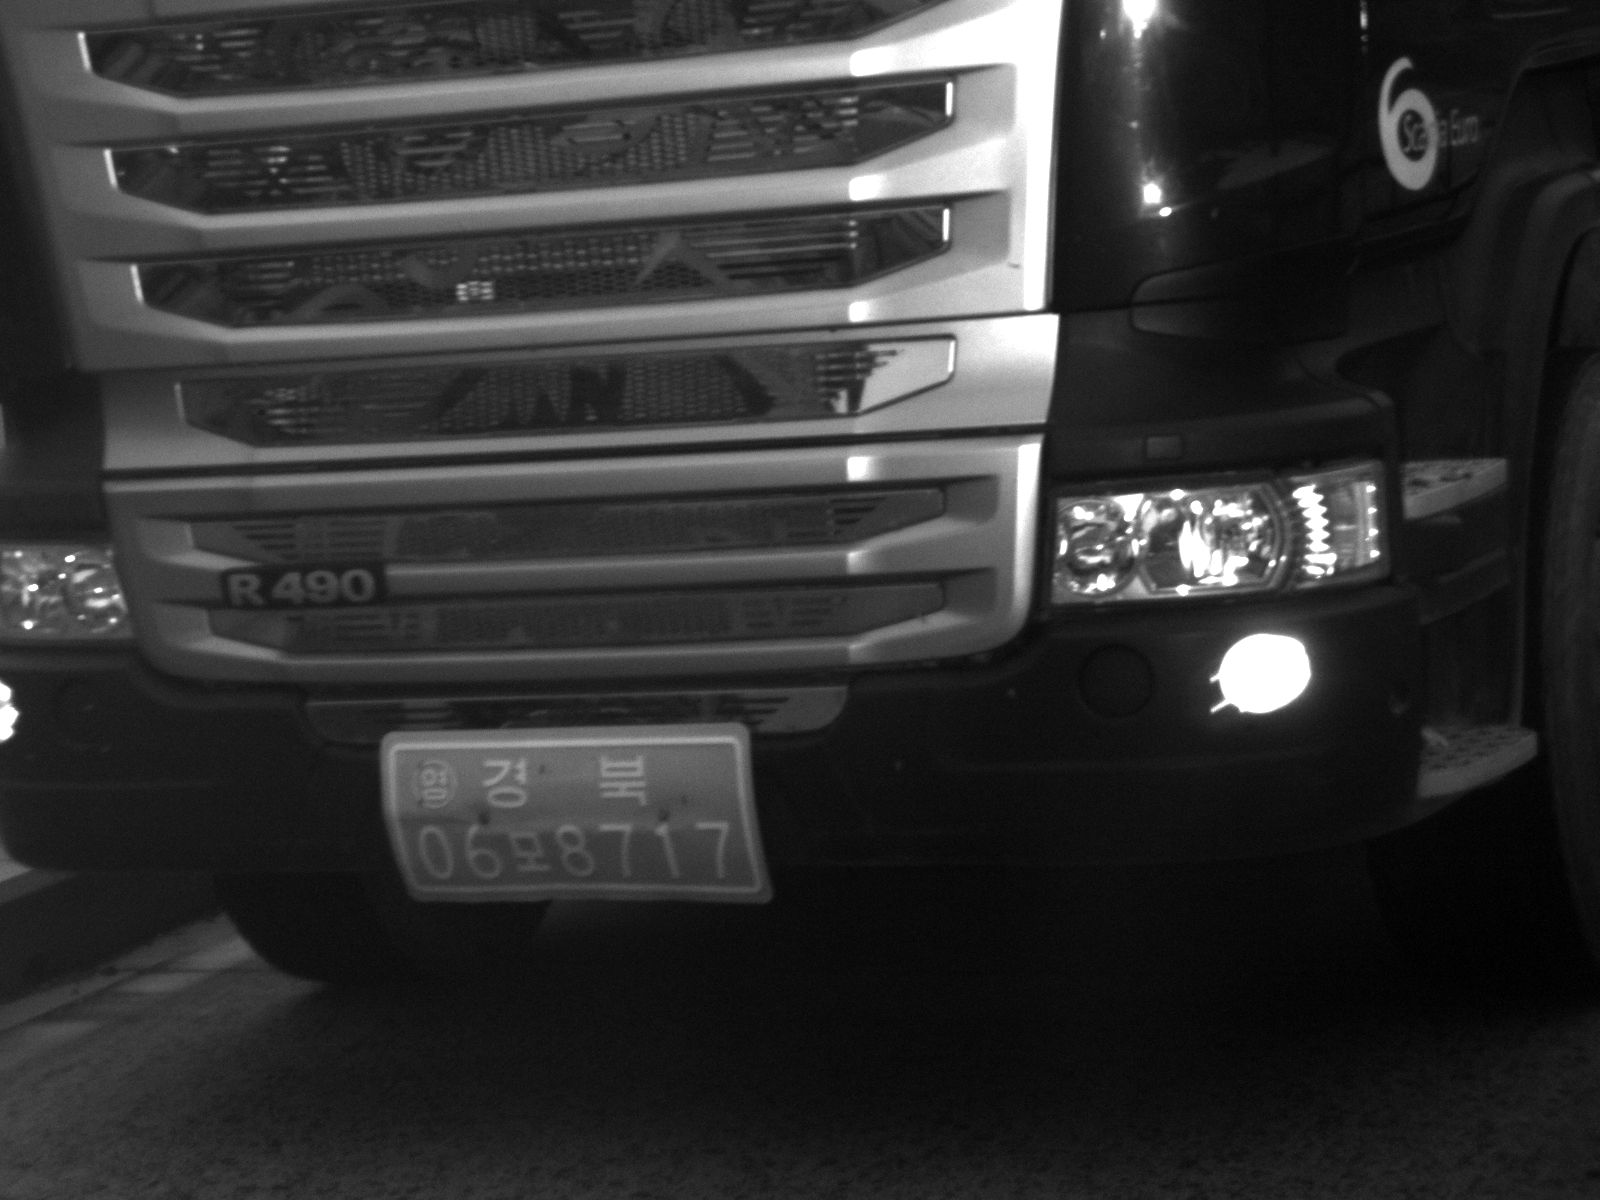car: (1, 1, 1595, 988)
plate: (379, 722, 772, 910)
